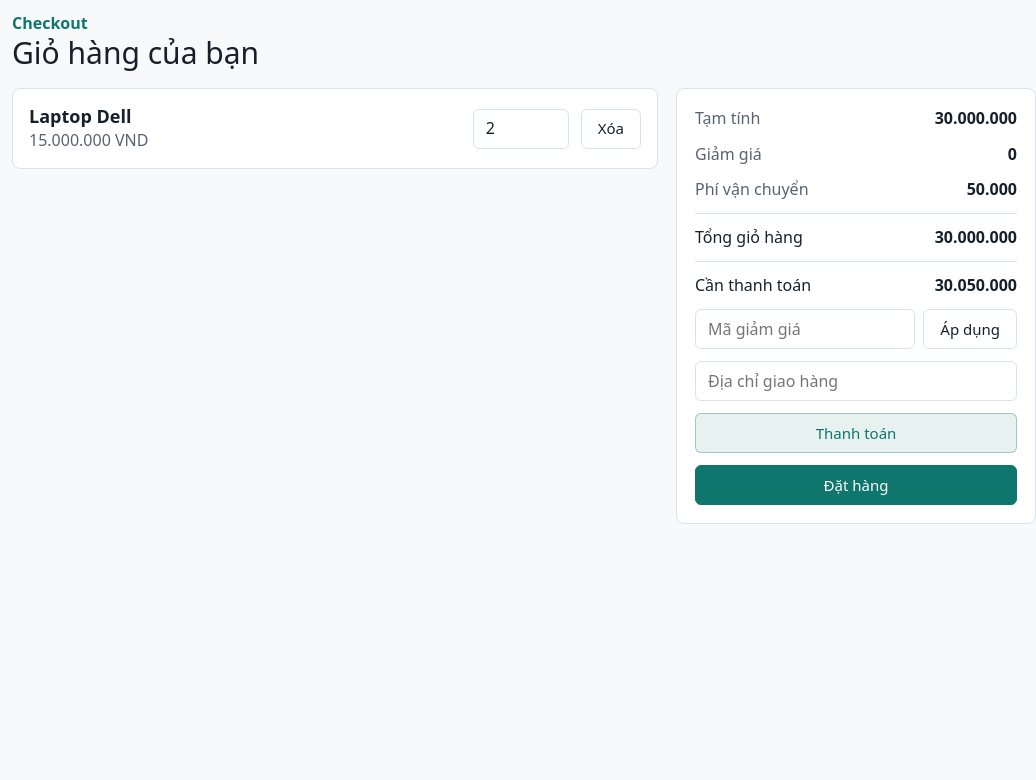
Test: Cart Component Integration Tests › c) Test error handling và success messages › TC15: Áp dụng coupon hiển thị message hợp lệ và không hợp lệ
Check: the heading "Laptop Dell" is shown, box [29,104,131,128]
In the field with test id "coupon-input": (805, 329) [695,309,915,349], type "bad-code"
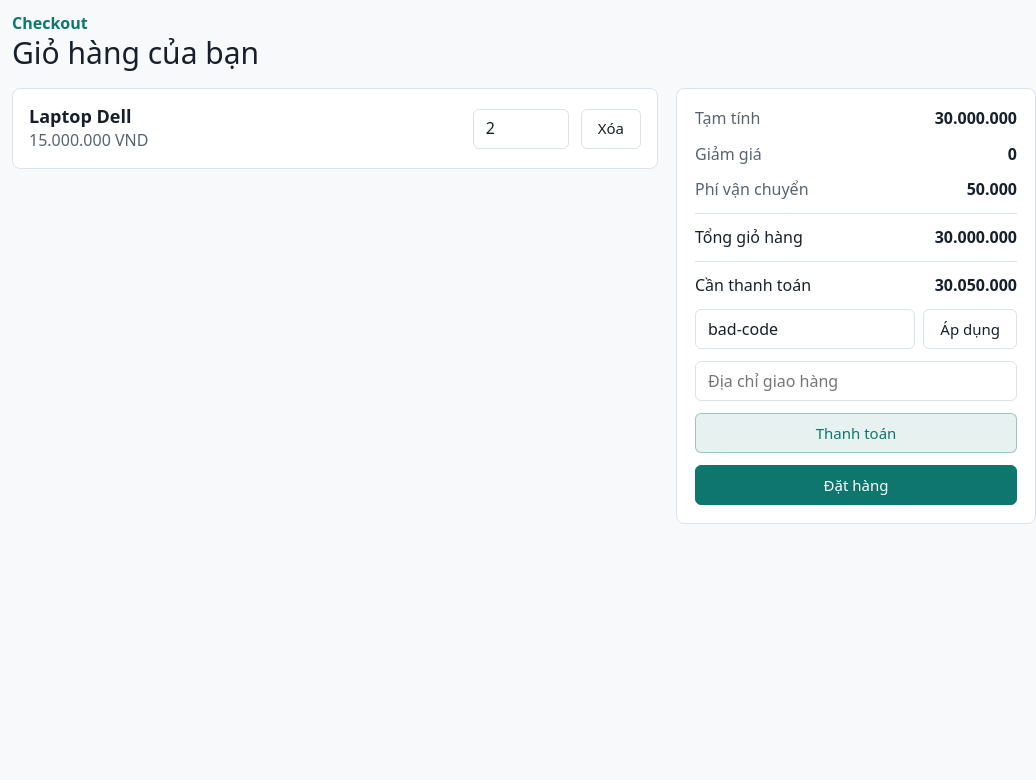
Click the button with test id "apply-coupon-btn": (970, 329) [923,309,1017,349]
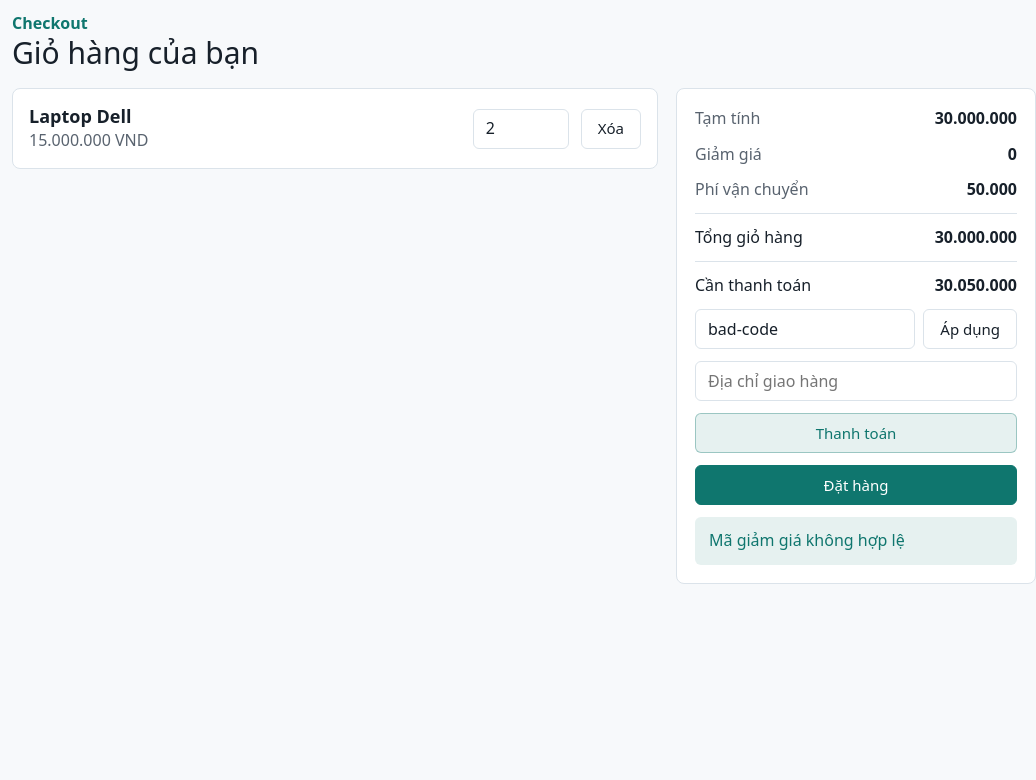
Check: the text with test id "form-message" reads "Mã giảm giá không hợp lệ", box [709,529,905,551]
Replace the text in the field with test id "coupon-input" with " fixed100k ": (805, 329) [695,309,915,349]
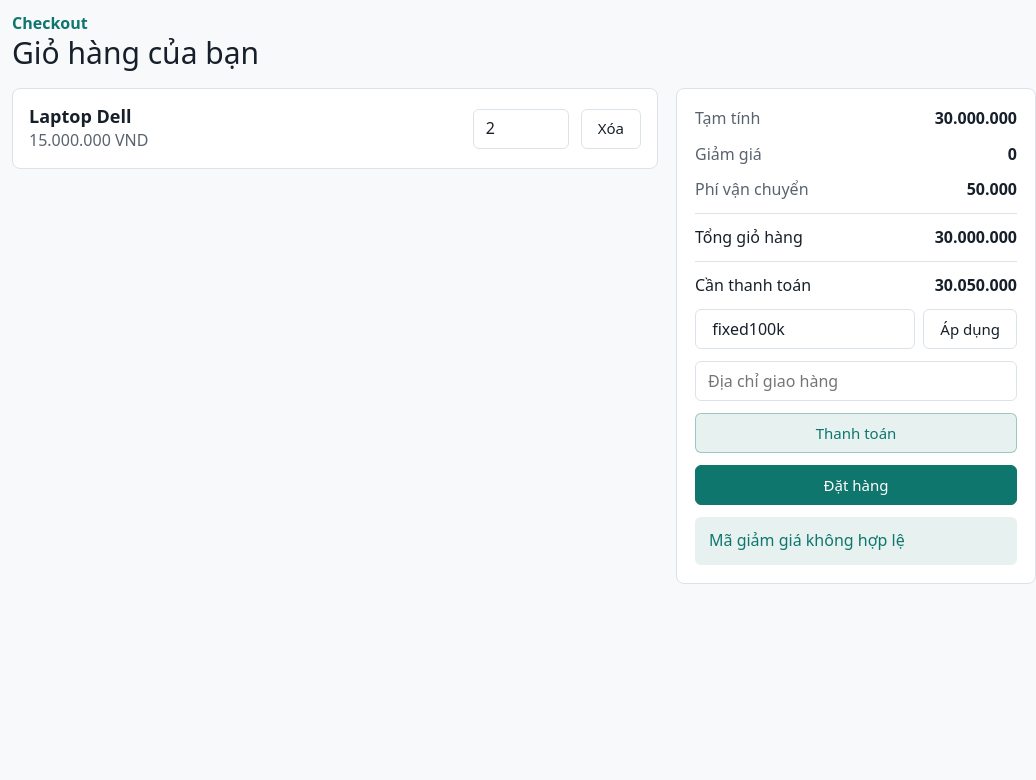
Click the button with test id "apply-coupon-btn": (970, 329) [923,309,1017,349]
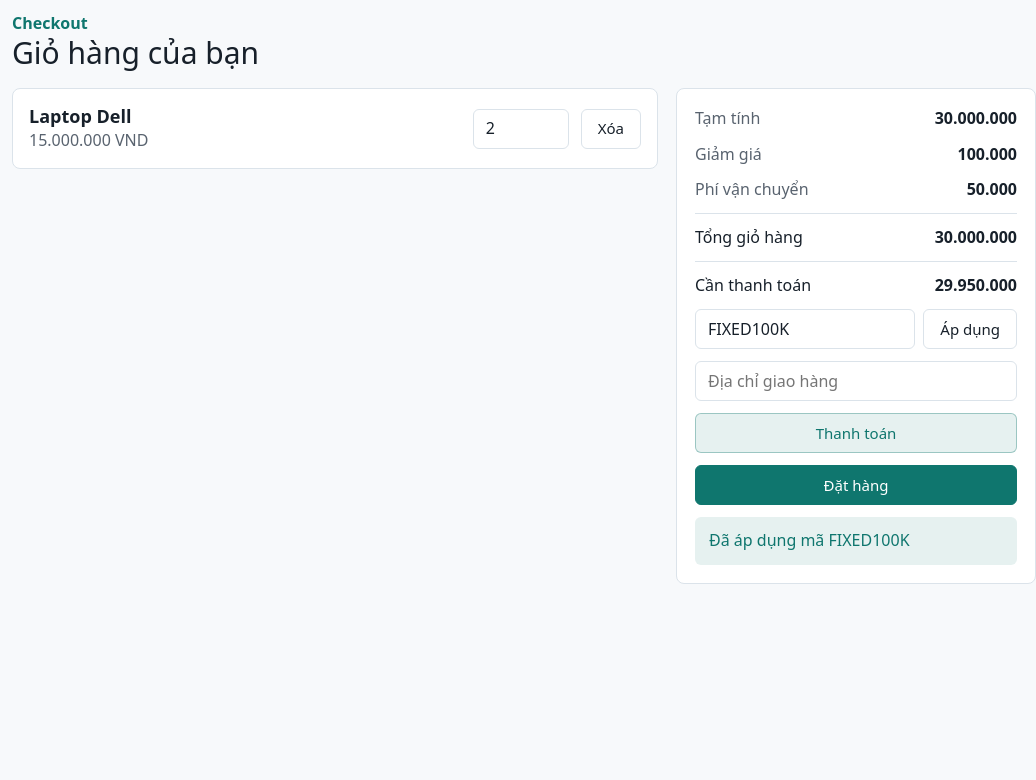
Check: the text with test id "form-message" reads "Đã áp dụng mã FIXED100K", box [709,529,910,551]
Check: the text with test id "checkout-total" reads "29.950.000", box [935,274,1017,296]
